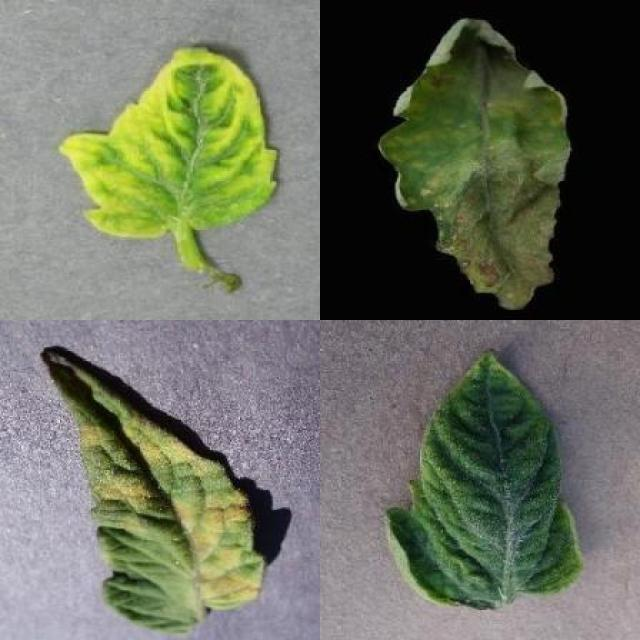Late Blight: (378, 20, 573, 310)
Leaf Mold: (40, 347, 266, 633)
Yellow Leaf Curl Virus: (386, 349, 584, 612), (60, 44, 279, 240)
